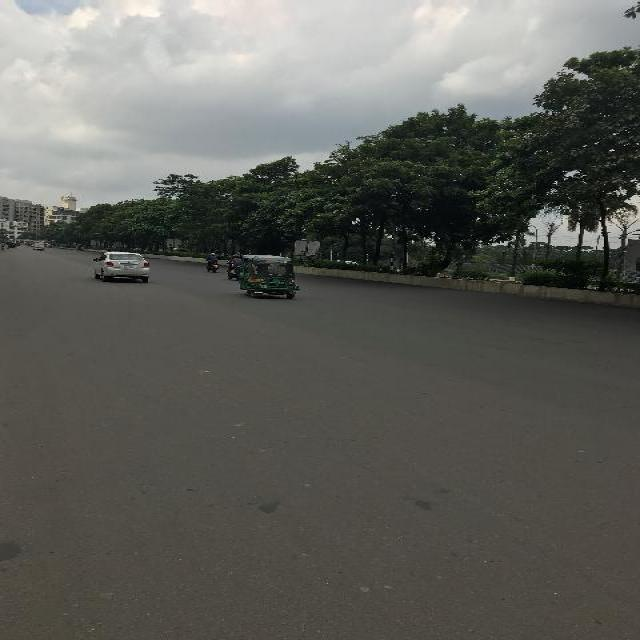bike: (228, 255, 241, 282), (206, 252, 220, 275)
vehicle: (240, 254, 301, 299), (94, 252, 151, 282), (33, 242, 44, 250), (6, 243, 17, 250), (76, 244, 83, 250)
